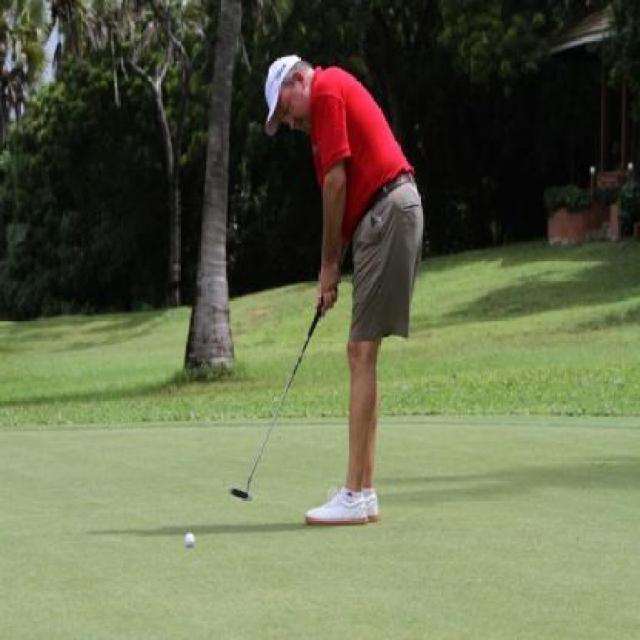club head: (227, 476, 253, 502)
